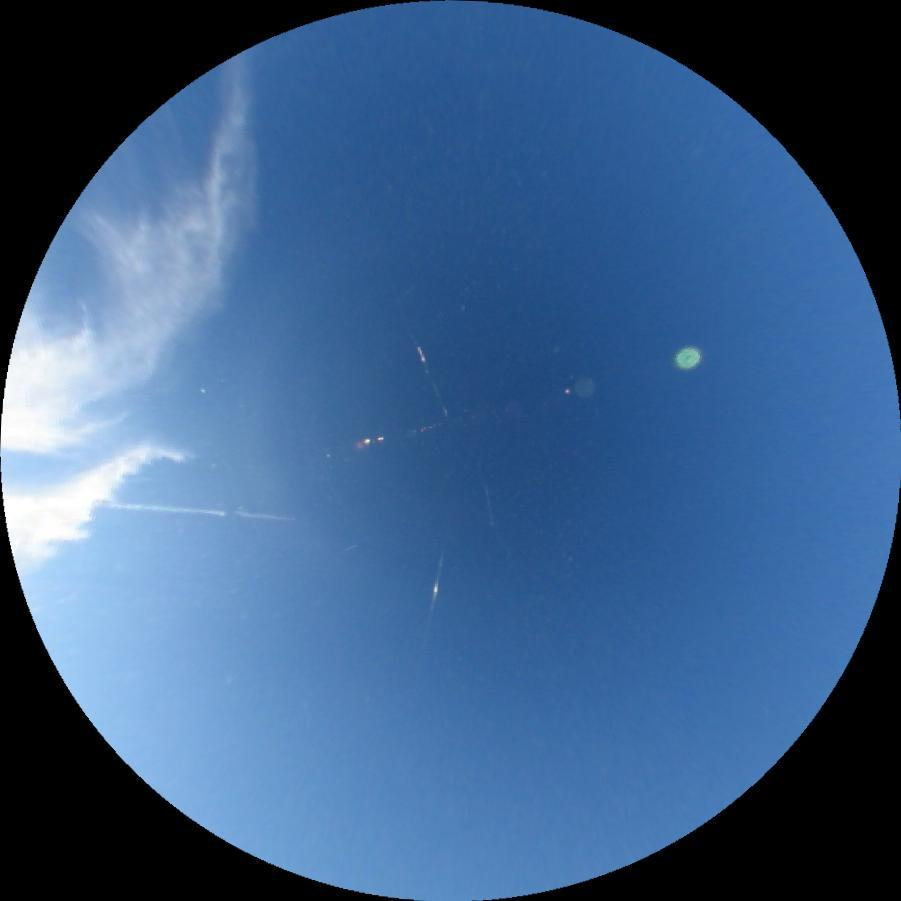parasite: (111, 499, 297, 521), (409, 332, 449, 415), (428, 551, 445, 610)
